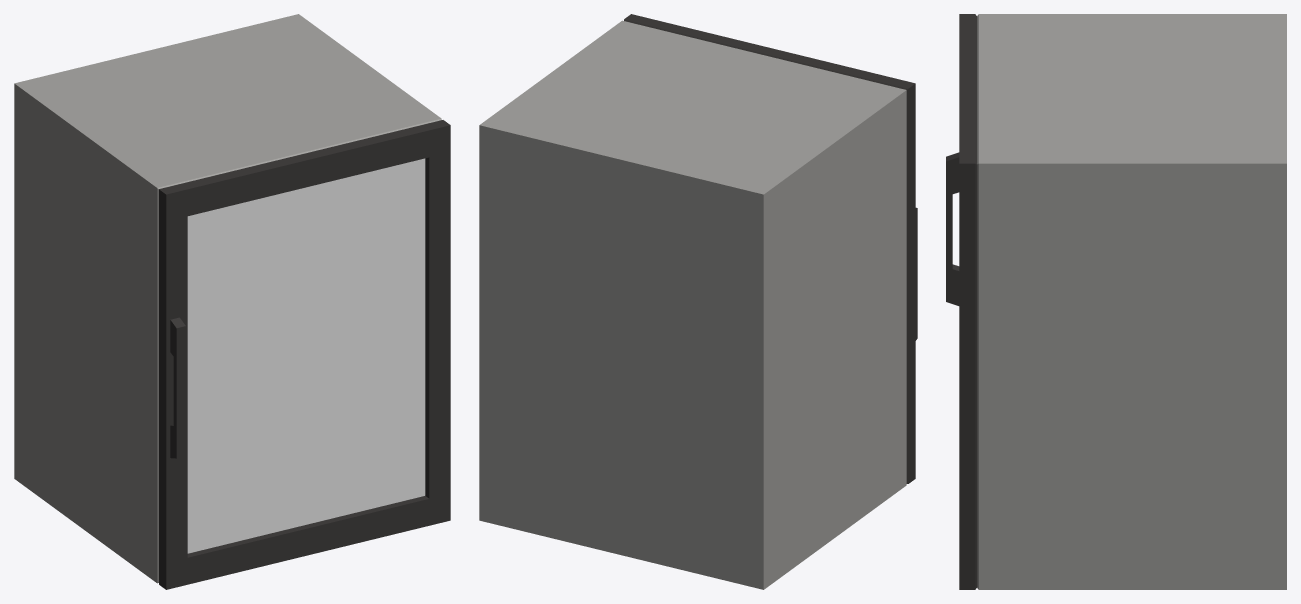
File: SM_Props_Interior_SuperMarket_Fridge_Mini_Preset_01.fbx
3 views of the same model, side by side, from view 1: azimuth 30°, elevation 25°; view 2: azimuth 150°, elevation 25°; view 3: azimuth 270°, elevation 25° (orthographic). The views are drawn at different scales.
Visible parts, largest first — view 1: SM_Props_Interior_SuperMarket_Fridge_Mini_Preset_01_Door, SM_Props_Interior_SuperMarket_Fridge_Mini_Preset_01; view 2: SM_Props_Interior_SuperMarket_Fridge_Mini_Preset_01, SM_Props_Interior_SuperMarket_Fridge_Mini_Preset_01_Door; view 3: SM_Props_Interior_SuperMarket_Fridge_Mini_Preset_01, SM_Props_Interior_SuperMarket_Fridge_Mini_Preset_01_Door.
Part boxes in pixels (x1,y1,x2,y2): SM_Props_Interior_SuperMarket_Fridge_Mini_Preset_01_Door: (159, 120, 450, 589); SM_Props_Interior_SuperMarket_Fridge_Mini_Preset_01: (14, 14, 441, 583); SM_Props_Interior_SuperMarket_Fridge_Mini_Preset_01: (479, 20, 906, 589); SM_Props_Interior_SuperMarket_Fridge_Mini_Preset_01_Door: (624, 14, 917, 483); SM_Props_Interior_SuperMarket_Fridge_Mini_Preset_01: (977, 14, 1286, 589); SM_Props_Interior_SuperMarket_Fridge_Mini_Preset_01_Door: (946, 14, 976, 589).
Size of the model in its own units: 64 by 85 by 61.6.
